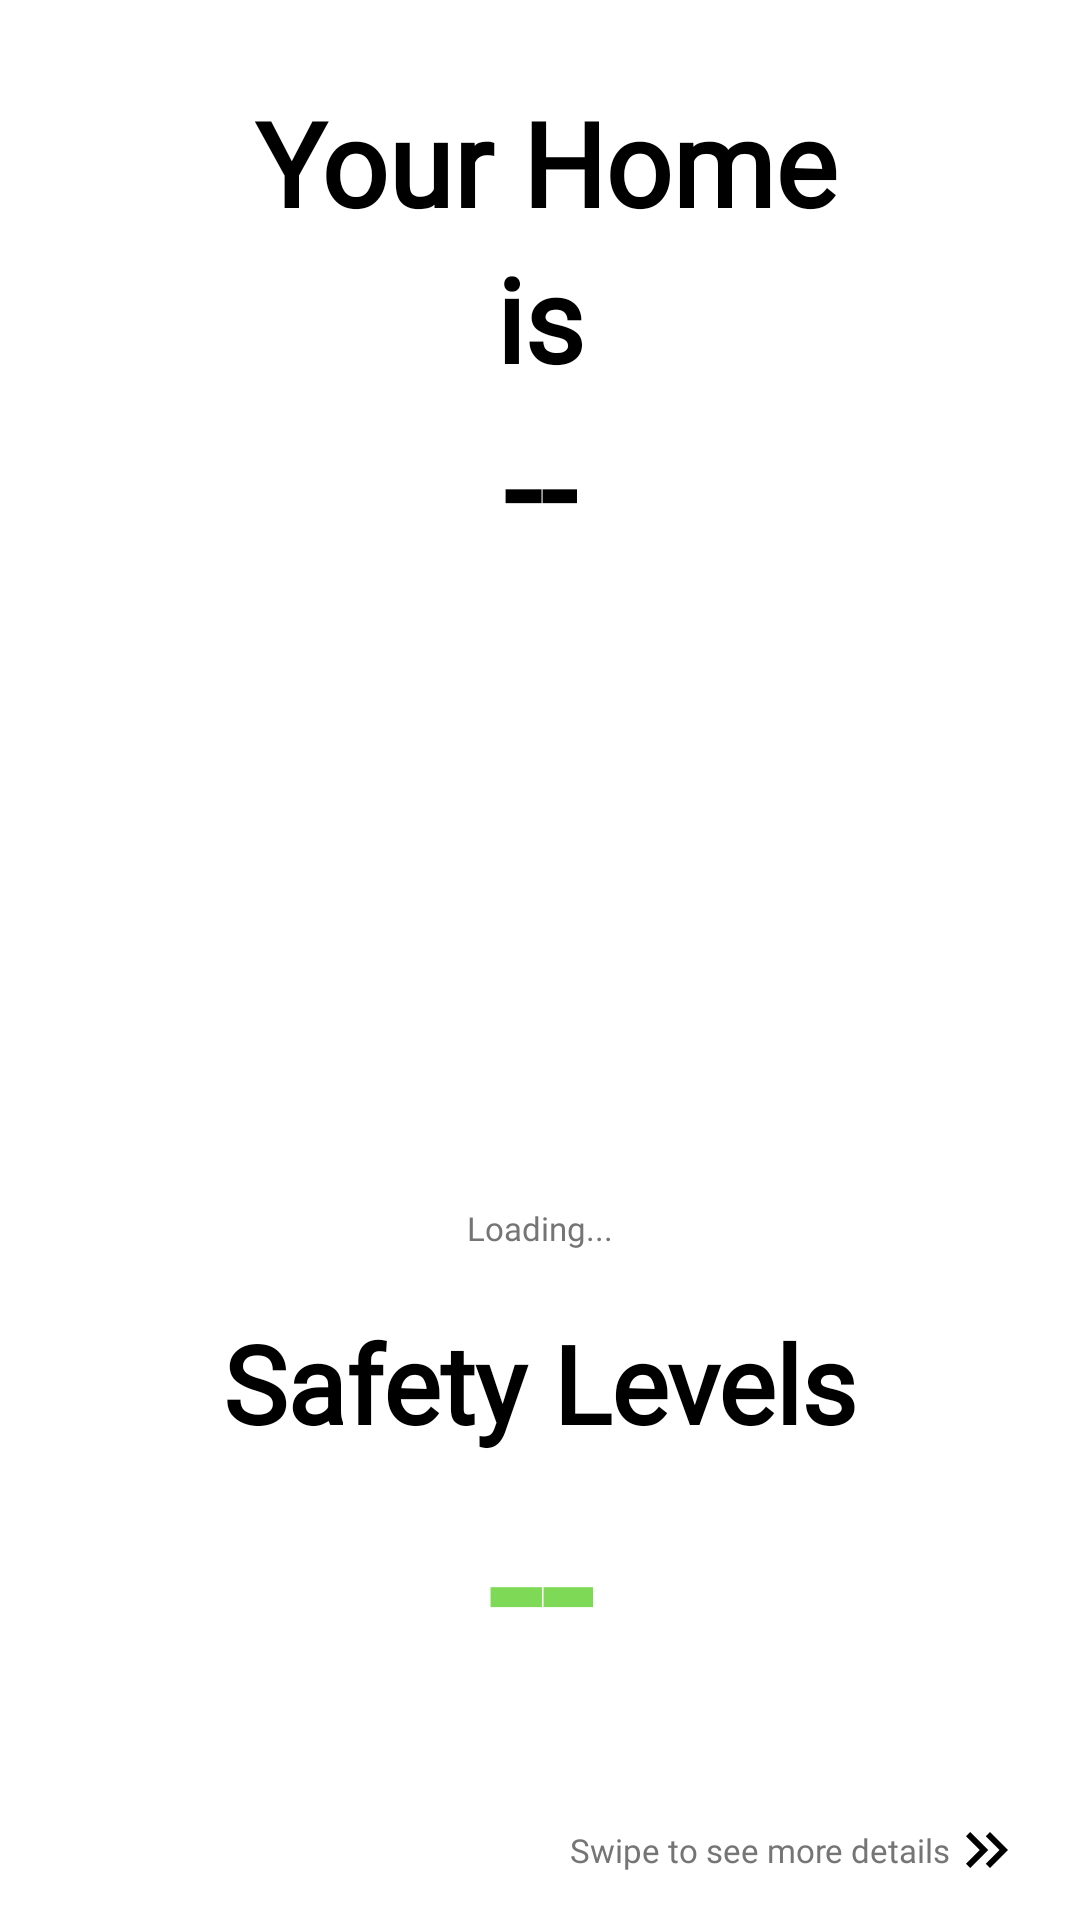

Locate icon controls on the screen. Image size 1080 × 1920, boxes as box=[x1, y1, x2, y2].
swipe right: box=[966, 1832, 1008, 1868]
